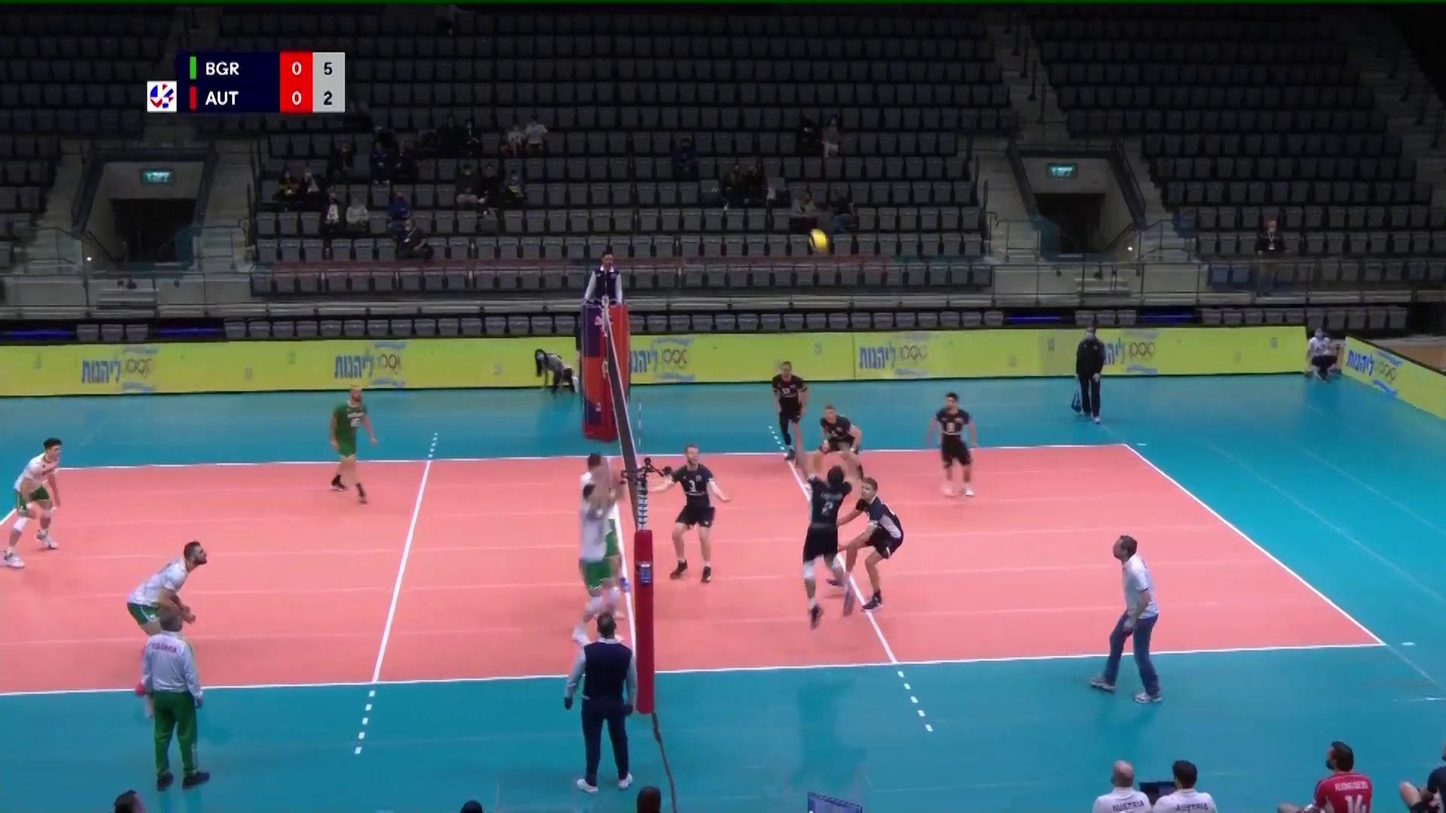ball: (808, 229, 829, 254)
